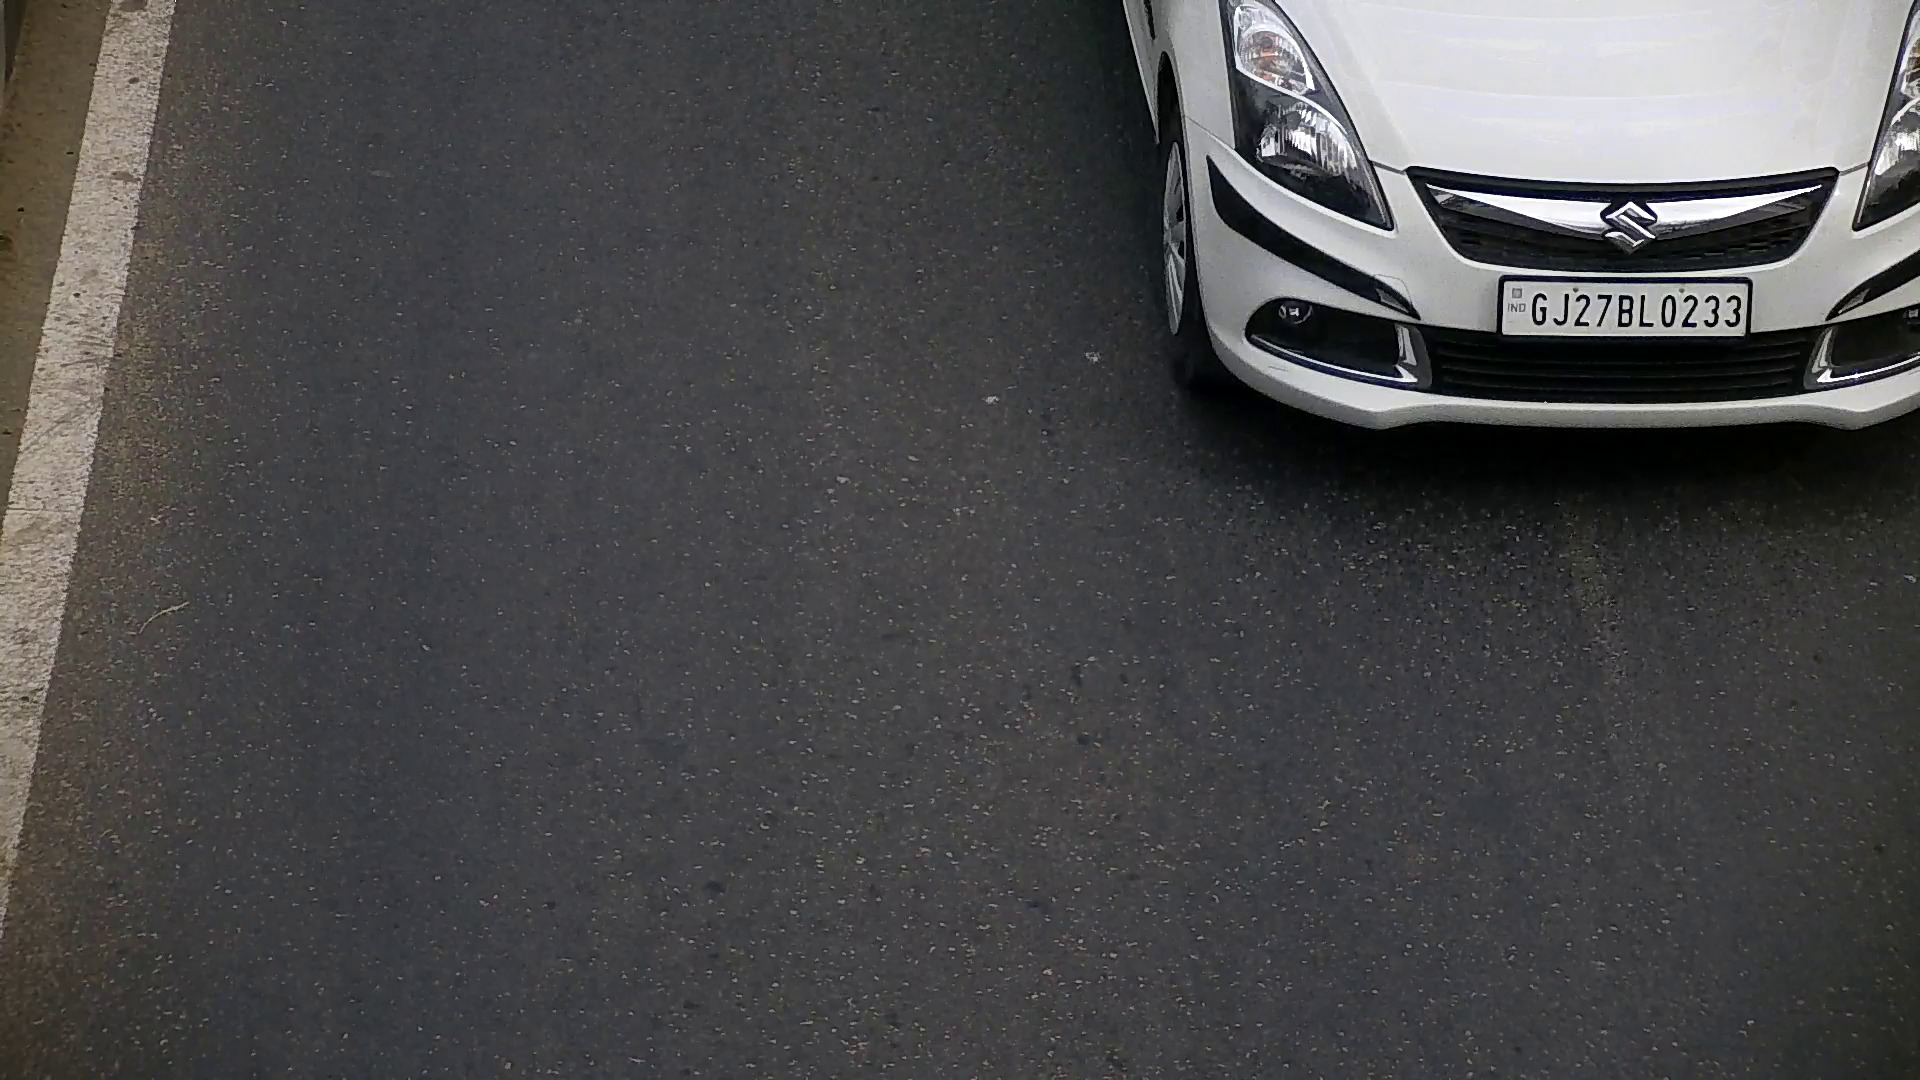numberplate: (1495, 269, 1754, 340)
